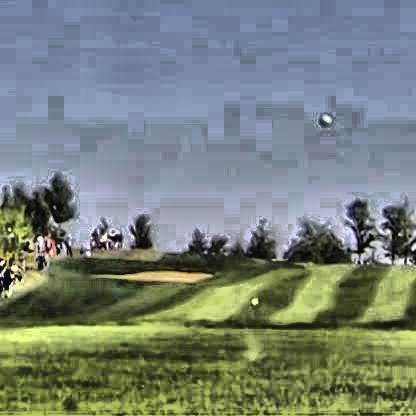golfball: (314, 111, 328, 124)
